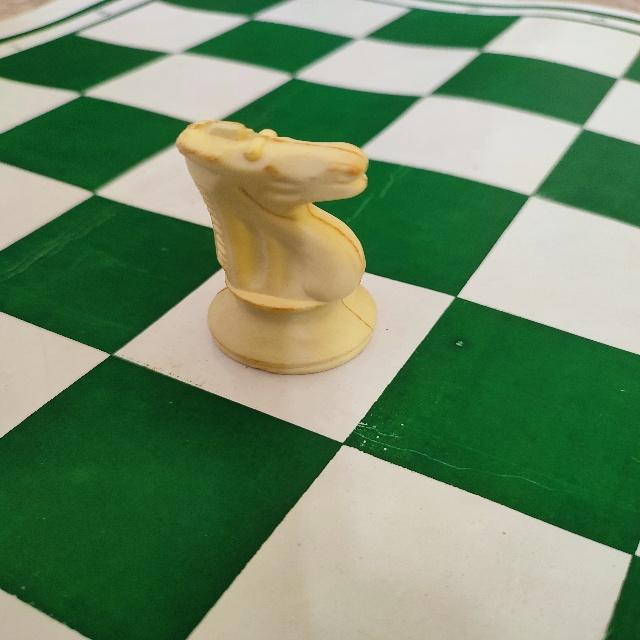Knight: (172, 114, 382, 380)
